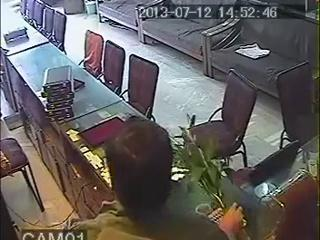Normal: (70, 119, 233, 240)
